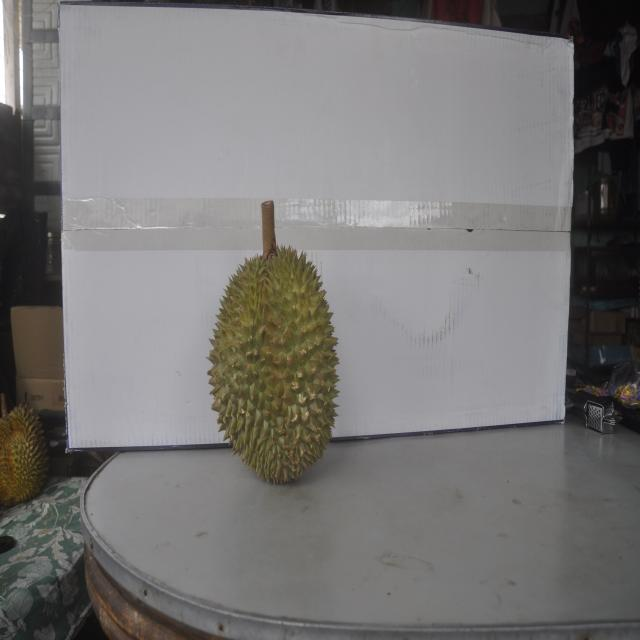mature: (206, 228, 344, 485), (0, 402, 49, 506)
